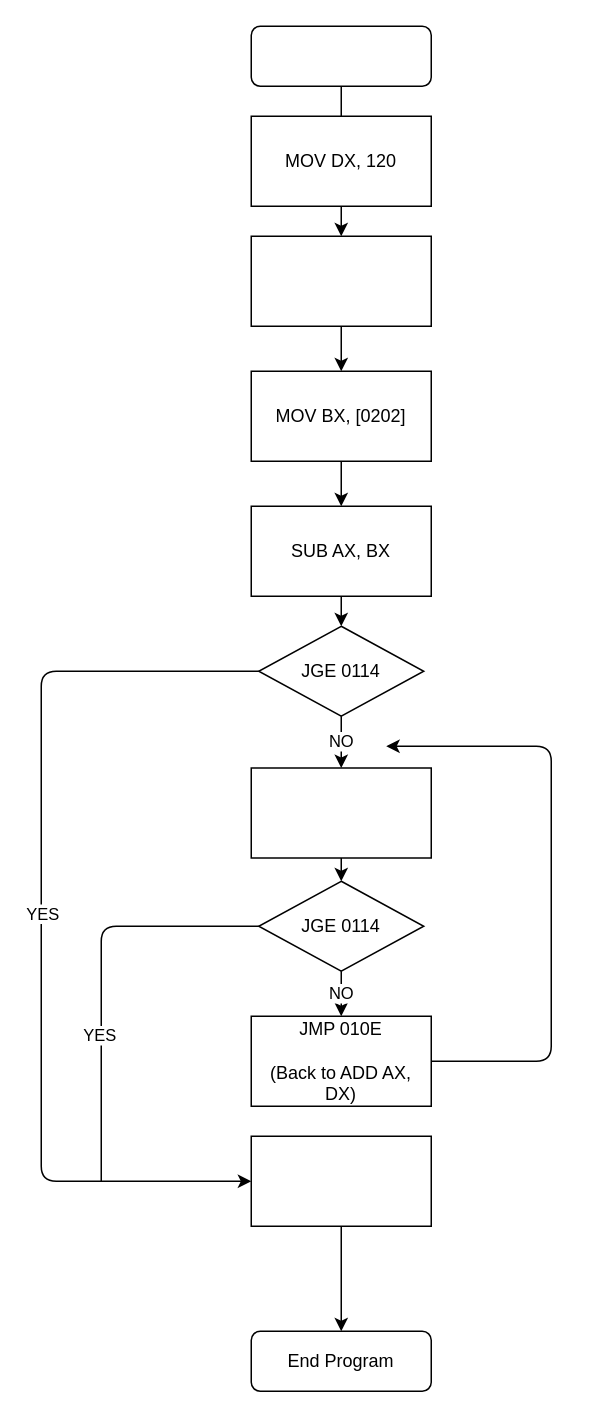
This 590x1418 diagram has some shape labels left out. The centre of each missing label's shape, as x and y in pixels:
"ADD AX, DX" belongs at (340,812).
"MOV [200], AX" belongs at (340,1180).
"MOV AX, [200]" belongs at (340,280).
"Start" belongs at (340,55).
